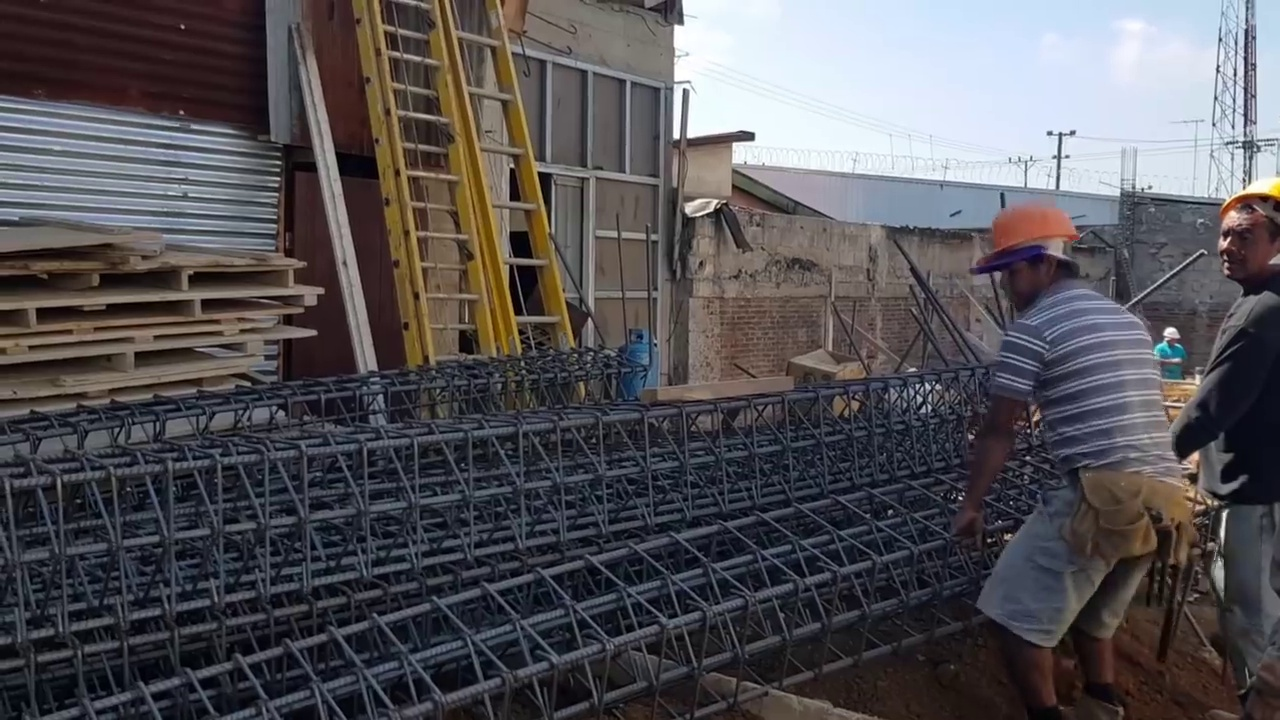helmet: (967, 194, 1083, 273), (1216, 175, 1280, 219), (1162, 327, 1182, 340)
helmet-on: (964, 195, 1092, 317), (1216, 176, 1280, 296), (1161, 326, 1183, 350)
person: (947, 191, 1188, 719), (1168, 175, 1280, 711), (1154, 327, 1186, 381)
